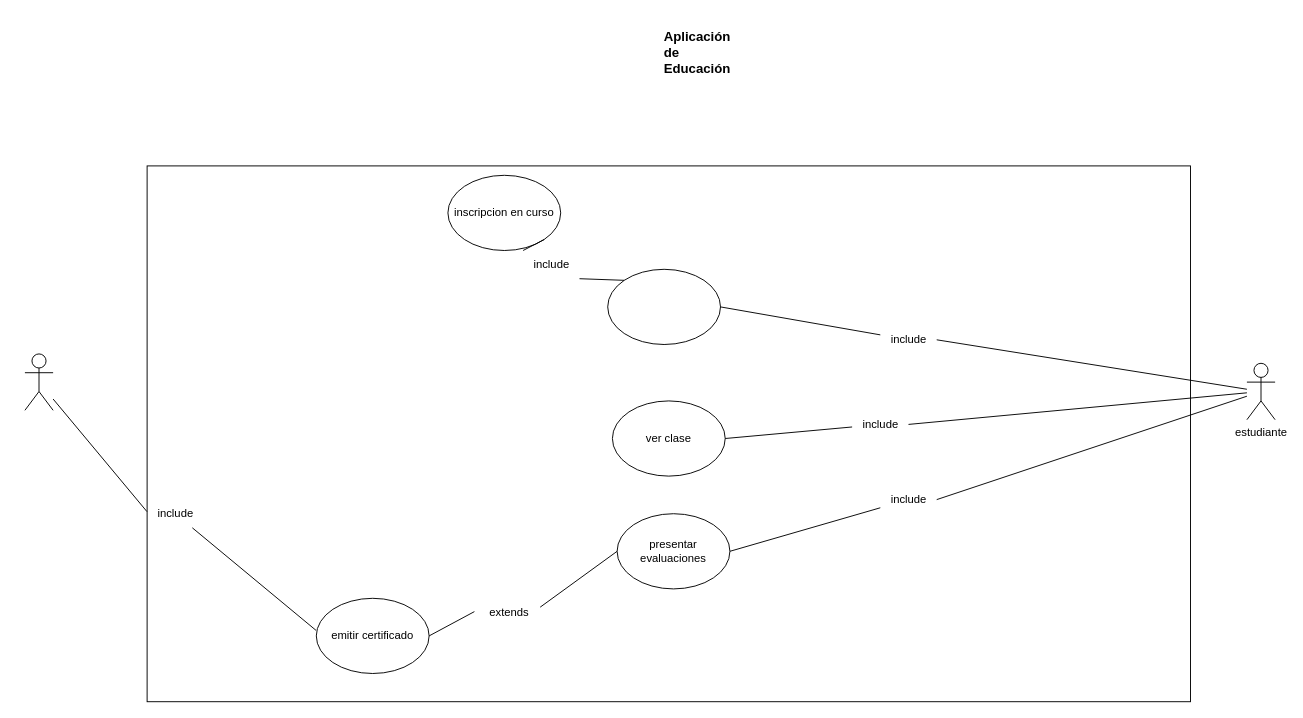
This 1303x718 diagram has some shape labels left out. The shapes that lost their labels are listed below. From the top down, each one's box as (x1, y1, x2, y2) in pixels, then its label:
(607, 268, 721, 345): registrarse
(24, 353, 53, 410): instructor
